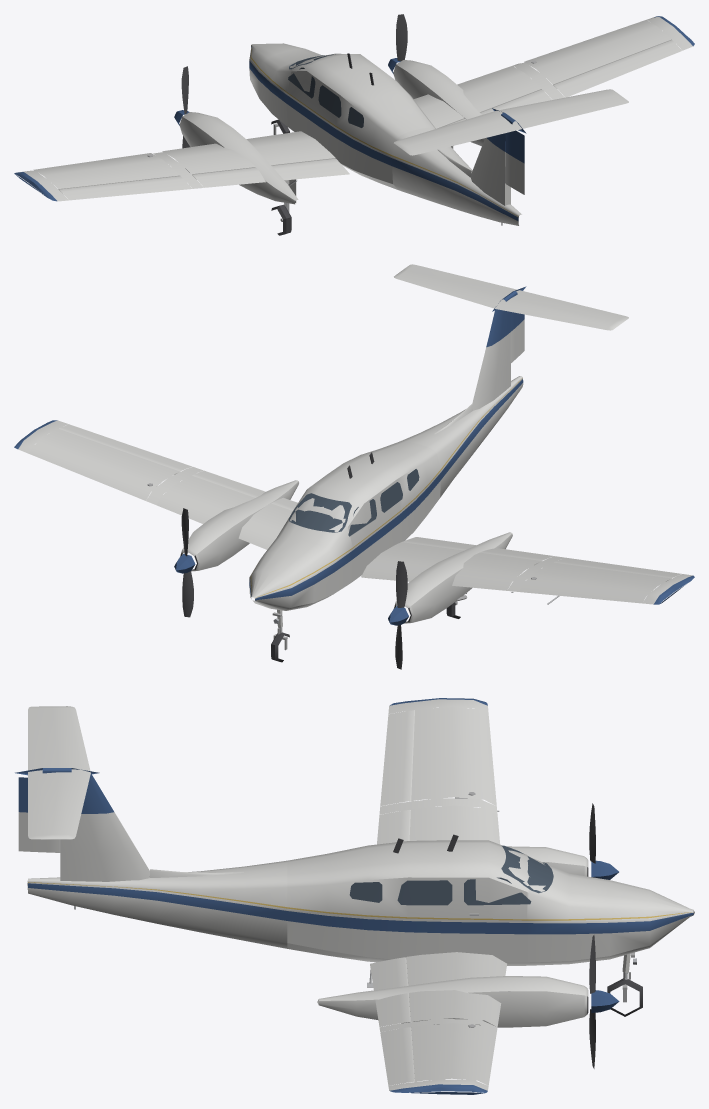
The model's file is seminole-far.glb.
The picture shows the model from 3 angles, top to bottom: view 1: azimuth 30°, elevation 25°; view 2: azimuth 150°, elevation 25°; view 3: azimuth 270°, elevation 25°; orthographic projection. The views are drawn at different scales.
Visible parts, largest first — view 1: body, cabin, stab, flapL, ailR, ailL, rud, flapR, prop.1, gearL, prop.0; view 2: body, cabin, stab, ailR, prop.0, prop.1, flapL, flapR, ailL, rud; view 3: body, cabin, stab, ailL, flapR, ailR, rud, prop.1, flapL, prop.0, gearN.
Part boxes in pixels (x1,y1,x2,y2): body: (14, 16, 694, 225); cabin: (249, 43, 435, 189); stab: (394, 89, 628, 155); flapL: (192, 158, 349, 187); ailR: (554, 40, 681, 97); ailL: (59, 176, 192, 200); rud: (505, 130, 524, 194); flapR: (444, 89, 551, 126); prop.1: (388, 14, 407, 73); gearL: (271, 179, 297, 235); prop.0: (174, 66, 189, 172); body: (14, 286, 694, 623); cabin: (249, 441, 441, 610); stab: (394, 264, 628, 330); ailR: (59, 424, 191, 474); prop.0: (388, 561, 408, 669); prop.1: (174, 508, 195, 617); flapL: (402, 537, 553, 564); flapR: (192, 470, 297, 510); ailL: (554, 557, 681, 581); rud: (510, 312, 524, 362); body: (15, 698, 588, 1094); cabin: (287, 834, 694, 965); stab: (28, 706, 90, 839); ailL: (380, 710, 414, 806); flapR: (370, 957, 412, 1026); ailR: (380, 1027, 416, 1085); rud: (18, 777, 60, 852); prop.1: (589, 935, 619, 1068); flapL: (377, 810, 410, 844); prop.0: (589, 803, 618, 879); gearN: (607, 952, 642, 1016).
Bounding box in the file's own units: 11.78 × 3.48 × 8.67.
